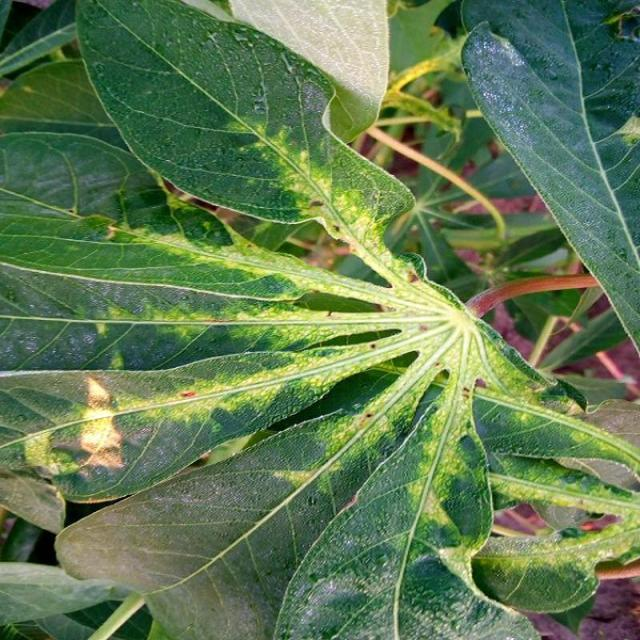cassava leaf: (0, 0, 638, 638), (73, 0, 416, 267), (458, 0, 639, 357)
